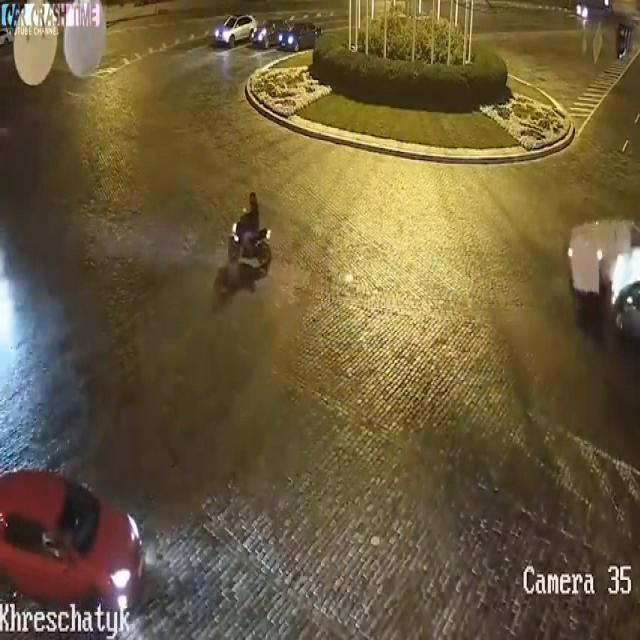Accident: (575, 153, 640, 398)
